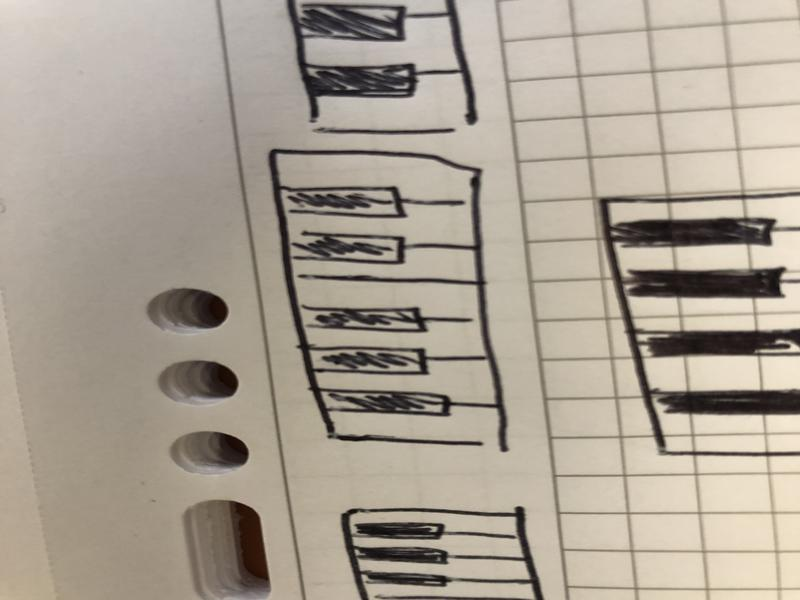piano: (261, 140, 529, 458)
